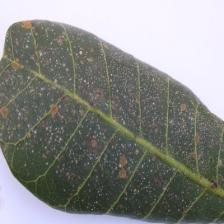red rust: (0, 23, 223, 223)
